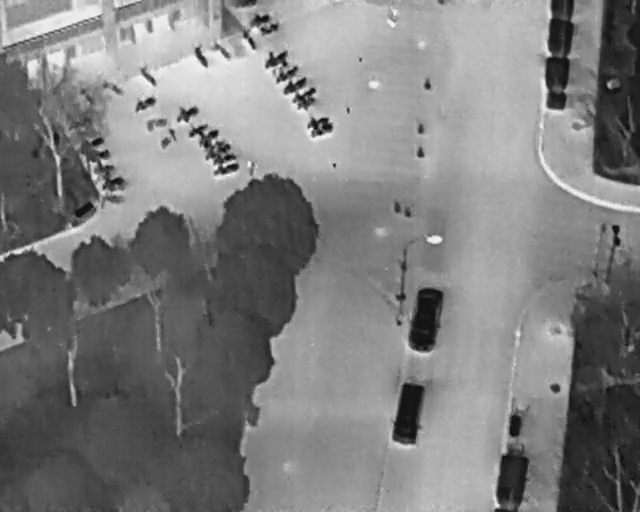Bicycle: (257, 43, 293, 72), (169, 96, 202, 127), (278, 72, 312, 99), (270, 60, 303, 87), (194, 125, 222, 152), (185, 117, 214, 143), (155, 124, 181, 152), (209, 36, 235, 63), (129, 91, 158, 115), (98, 75, 127, 99), (135, 63, 160, 90), (99, 174, 130, 195), (211, 158, 241, 179), (209, 147, 239, 168), (246, 7, 273, 30), (237, 25, 260, 52), (255, 17, 282, 39), (190, 43, 212, 70), (202, 136, 226, 160), (206, 140, 233, 161), (289, 85, 318, 103), (144, 112, 170, 132), (308, 121, 334, 139), (305, 112, 331, 130), (294, 94, 317, 112), (89, 146, 111, 163), (83, 134, 106, 150), (91, 164, 116, 173)
Car: (403, 284, 448, 356), (388, 379, 429, 449)
Person: (387, 7, 399, 28)
